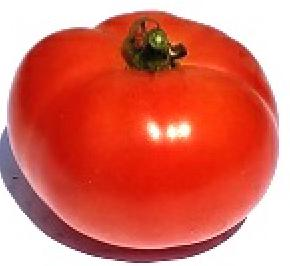tomato: (9, 13, 280, 251)
